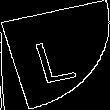L_N: (29, 26, 81, 84)
